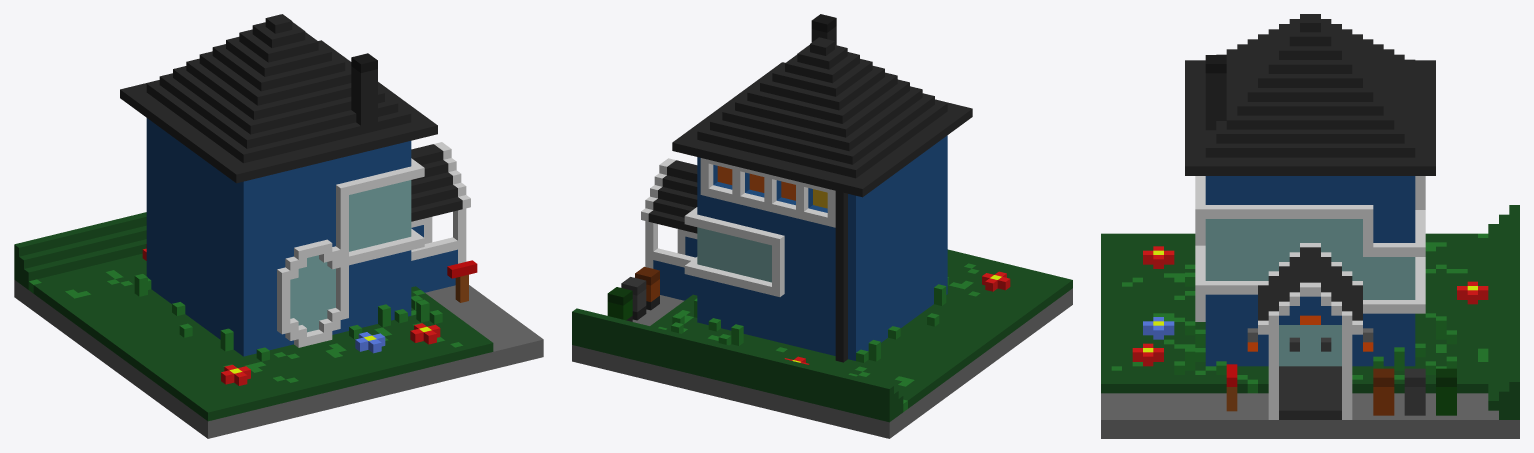
The model's file is town_model-4.obj.
The picture shows the model from 3 angles, left to right: view 1: azimuth 30°, elevation 25°; view 2: azimuth 150°, elevation 25°; view 3: azimuth 270°, elevation 25°; orthographic projection. The views are drawn at different scales.
Visible parts, largest first — view 1: town_model-4; view 2: town_model-4; view 3: town_model-4.
Boxes of the visible parts, x1,y1,x2,y2 form: town_model-4: (14,14,543,438); town_model-4: (572,14,1072,438); town_model-4: (1101,14,1519,438).
Size of the model in its own units: 40 by 35 by 40.
1 material, 1 textured.
